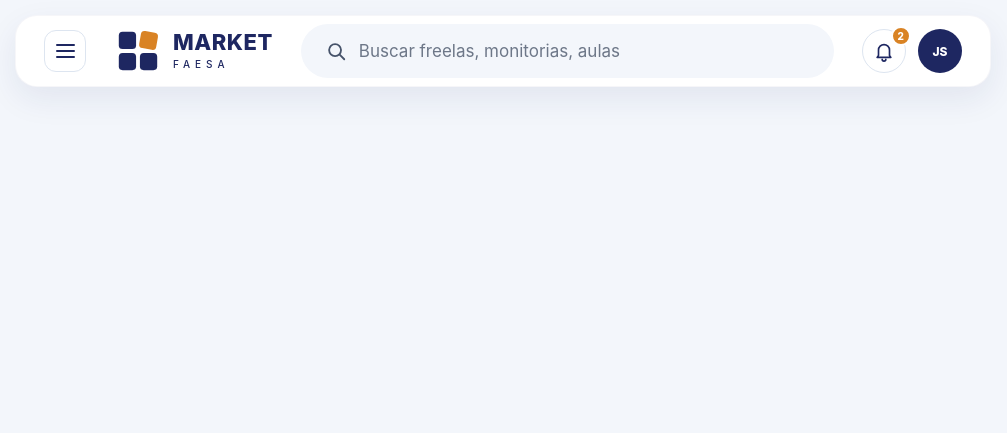
Test: sino de notificações › mostra o erro de marcar todas e mantém as não lidas
Click the button named "Notificações" at [884, 51], box [862,29,906,73]
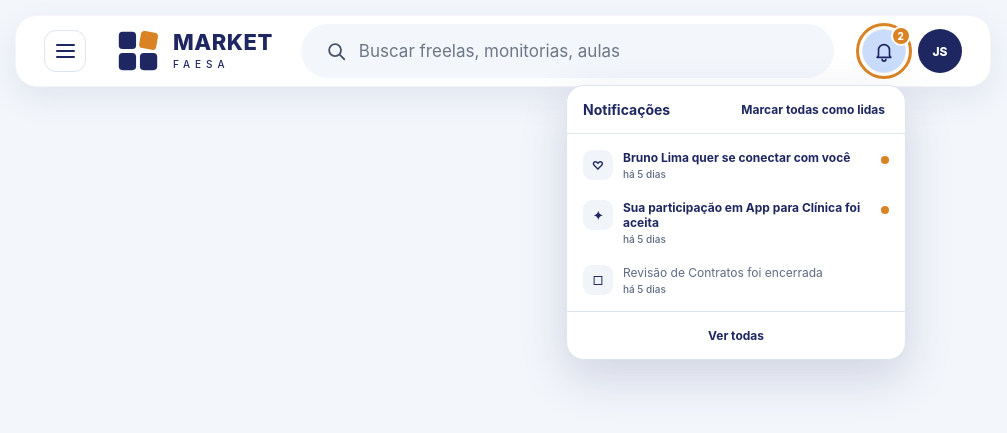
Result: the text "Bruno Lima quer se conectar com você" is shown at [623,150,871,165]
Click the button "Marcar todas como lidas" at [813, 110], box [737,98,889,121]
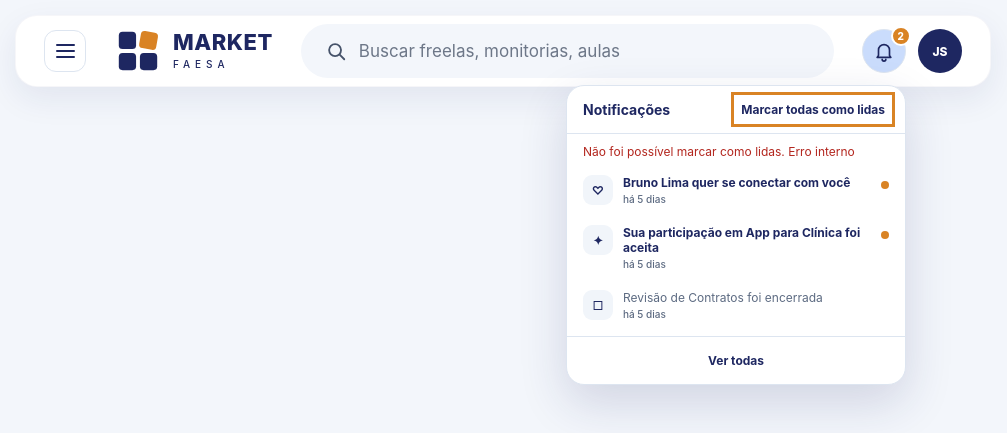
Result: the number of buttons named "Não lida:" is 2 at [573,165,899,215]; [573,215,899,280]
Result: the message reads "Não foi possível marcar como lidas. Erro interno" at [583,144,855,159]
